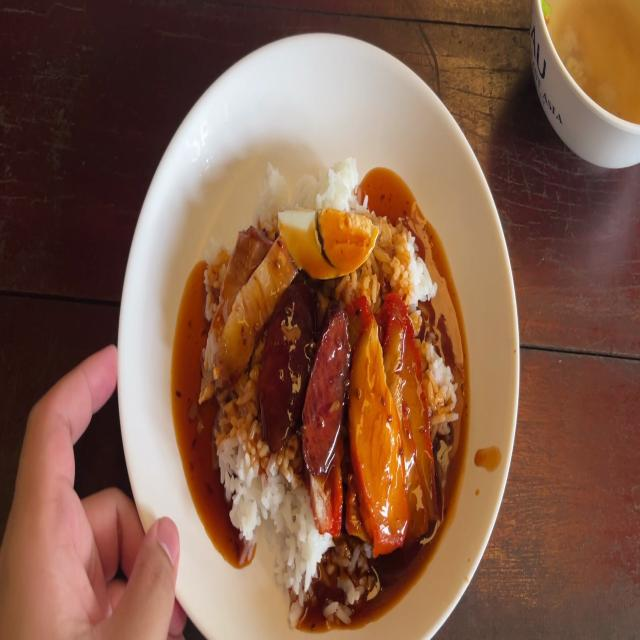01boiled_egg: (281, 200, 375, 281)
01chainese_sausage: (260, 287, 350, 451)
01crispy_pork: (204, 224, 296, 396)
01red_pork: (358, 303, 428, 530)
01red_pork_and_crispy_pork: (220, 183, 448, 575)
01rice: (254, 452, 314, 597), (224, 405, 263, 523)
